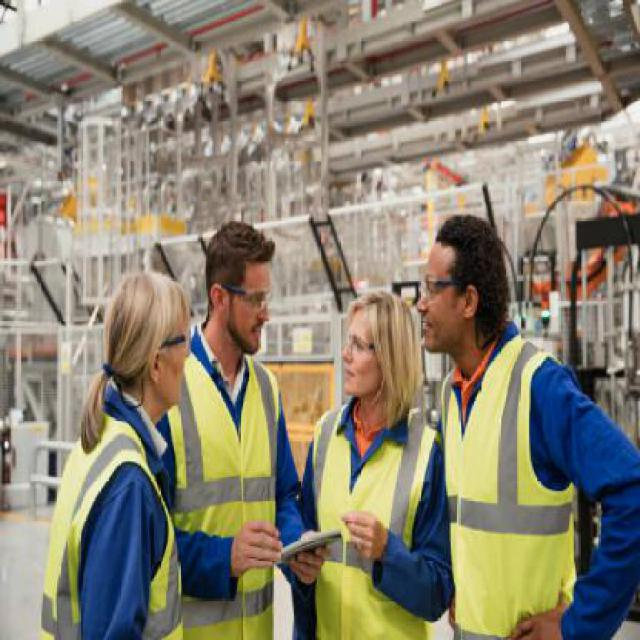glass: (224, 279, 278, 315), (412, 267, 455, 306)
head: (100, 264, 194, 386), (418, 209, 513, 324), (333, 281, 418, 392), (199, 218, 281, 326)
person: (412, 200, 635, 640), (31, 264, 197, 638), (295, 283, 444, 637), (184, 212, 304, 639)
vest: (430, 346, 586, 638), (176, 339, 295, 638), (35, 407, 186, 640), (304, 400, 447, 640)
